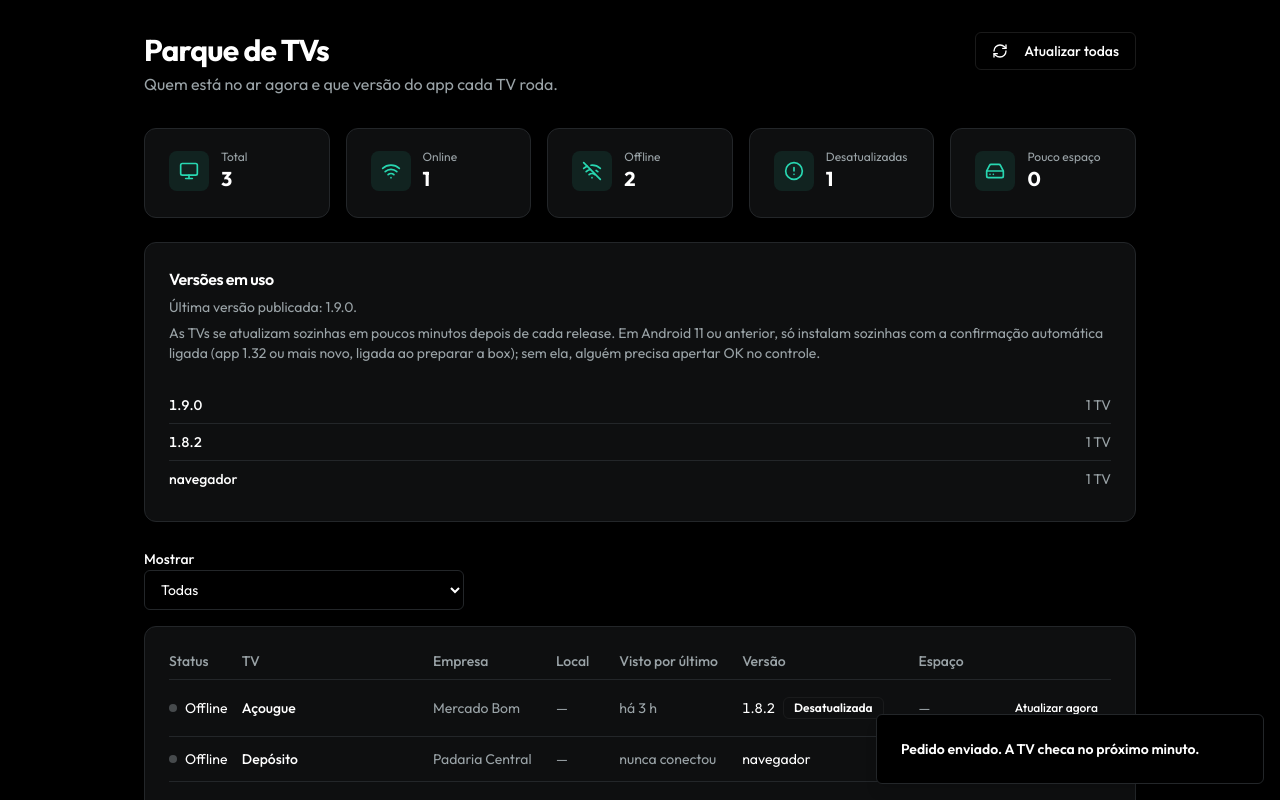
Test case: Parque de TVs › "Atualizar todas" pede confirmação e manda sem lista
Click the button "Atualizar todas": x=1056, y=51 [975,32,1136,70]
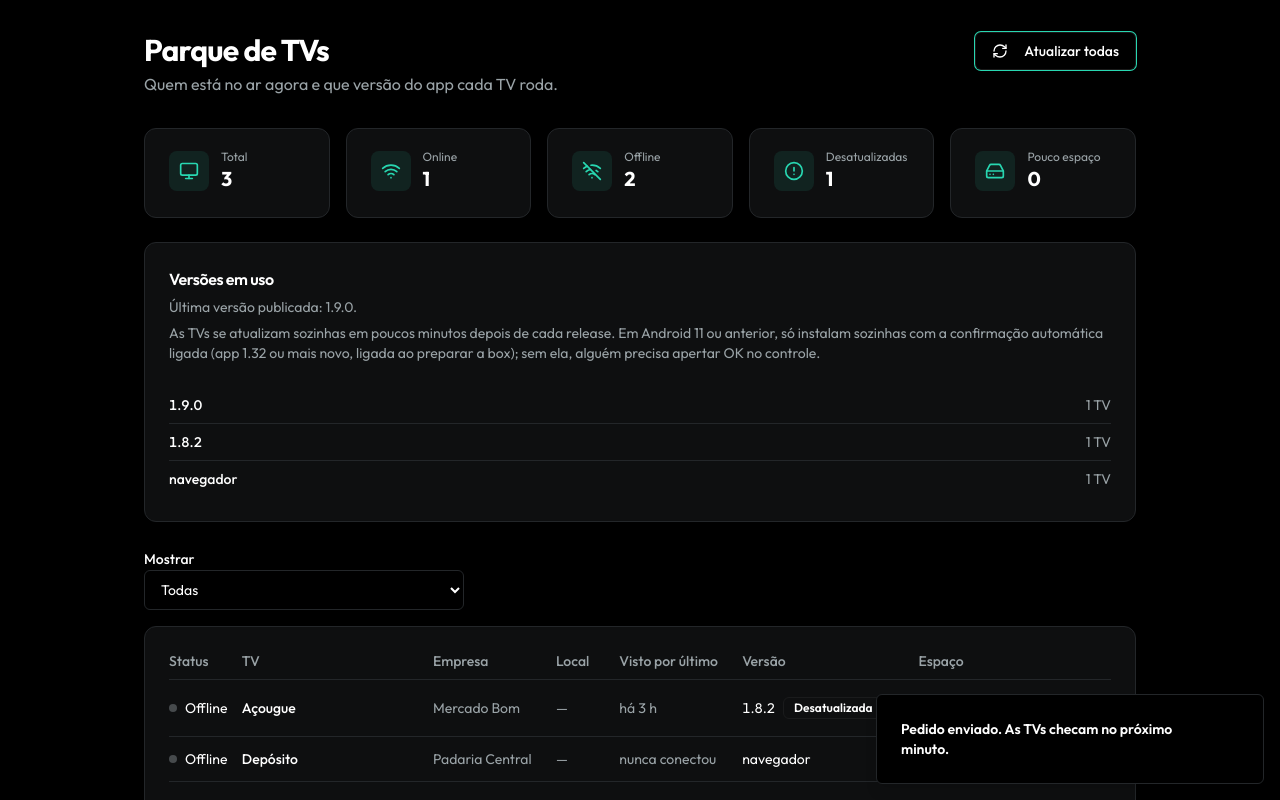
expect the text "Pedido enviado. As TVs checam no próximo minuto." is shown: met, box [901,719,1215,759]
